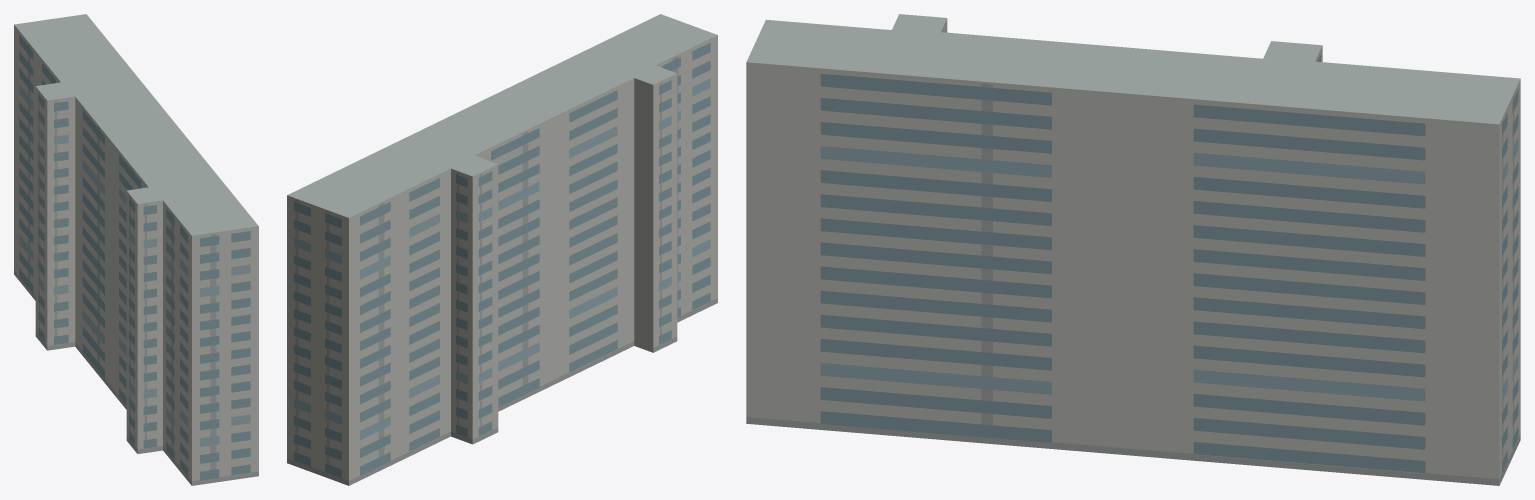
The model's file is residential-5f4466fc-b8e0-4626-b4cd-2f8f17dc38b3.glb.
3 renders of one model, left to right at view 1: azimuth 30°, elevation 25°; view 2: azimuth 150°, elevation 25°; view 3: azimuth 270°, elevation 25°, orthographic. The views are drawn at different scales.
Parts seen in each view (by area): view 1: residential-5f4466fc-b8e0-4626-b4cd-2f8f17dc38b3.tmp; view 2: residential-5f4466fc-b8e0-4626-b4cd-2f8f17dc38b3.tmp; view 3: residential-5f4466fc-b8e0-4626-b4cd-2f8f17dc38b3.tmp.
Boxes of the visible parts, x1,y1,x2,y2 form: residential-5f4466fc-b8e0-4626-b4cd-2f8f17dc38b3.tmp: (14, 14, 258, 485); residential-5f4466fc-b8e0-4626-b4cd-2f8f17dc38b3.tmp: (287, 14, 717, 485); residential-5f4466fc-b8e0-4626-b4cd-2f8f17dc38b3.tmp: (746, 14, 1520, 485).
Size of the model in its own units: 26.86 by 41 by 79.59.
